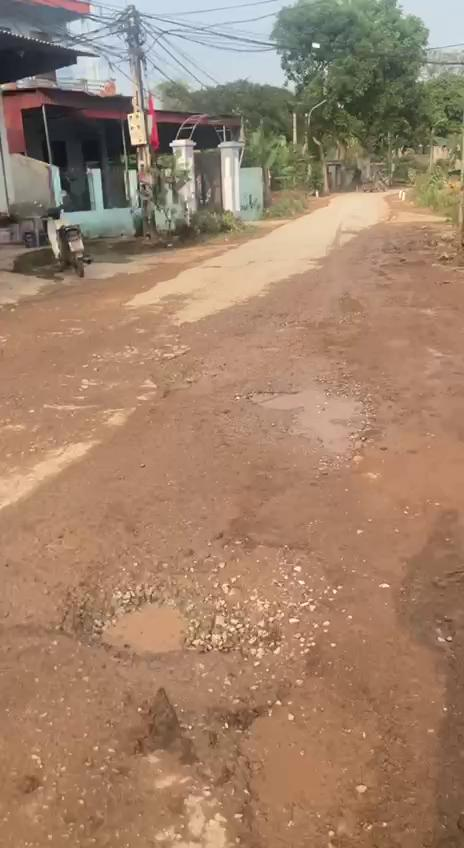pothole: (50, 542, 328, 661), (204, 689, 386, 848), (246, 380, 375, 466)
